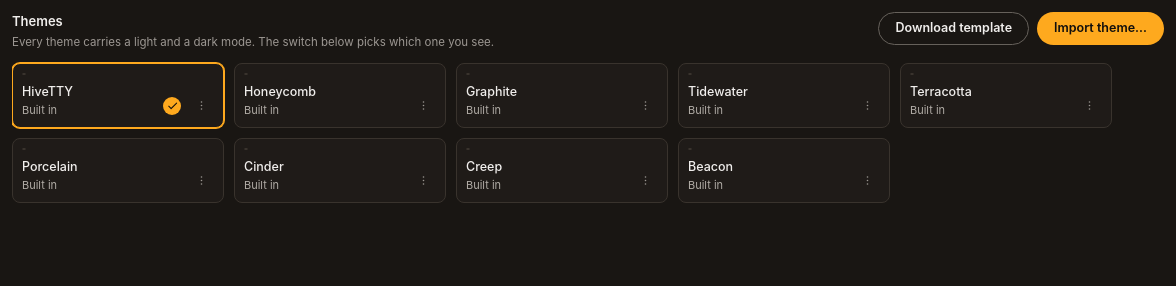
ThemeGallery › offers no Remove on porcelain
This screenshot has width=1176, height=286.
Step 1. Click the button named "Porcelain actions" → (202, 181), box [189, 168, 214, 193]
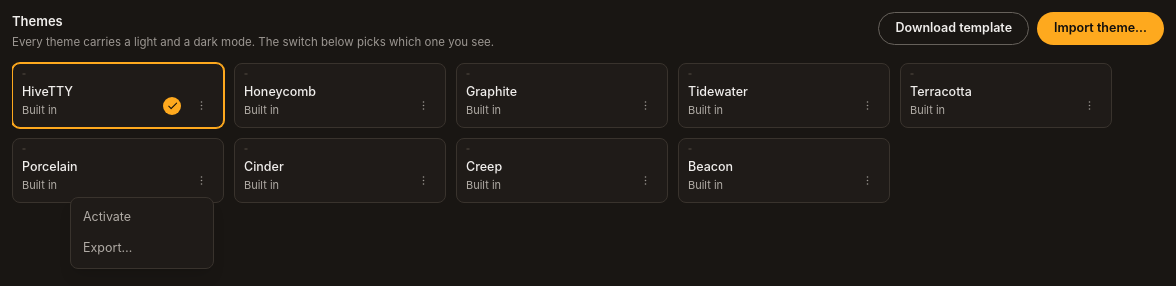
Result: the menu item "Export…" is shown at [83, 240, 132, 255]
